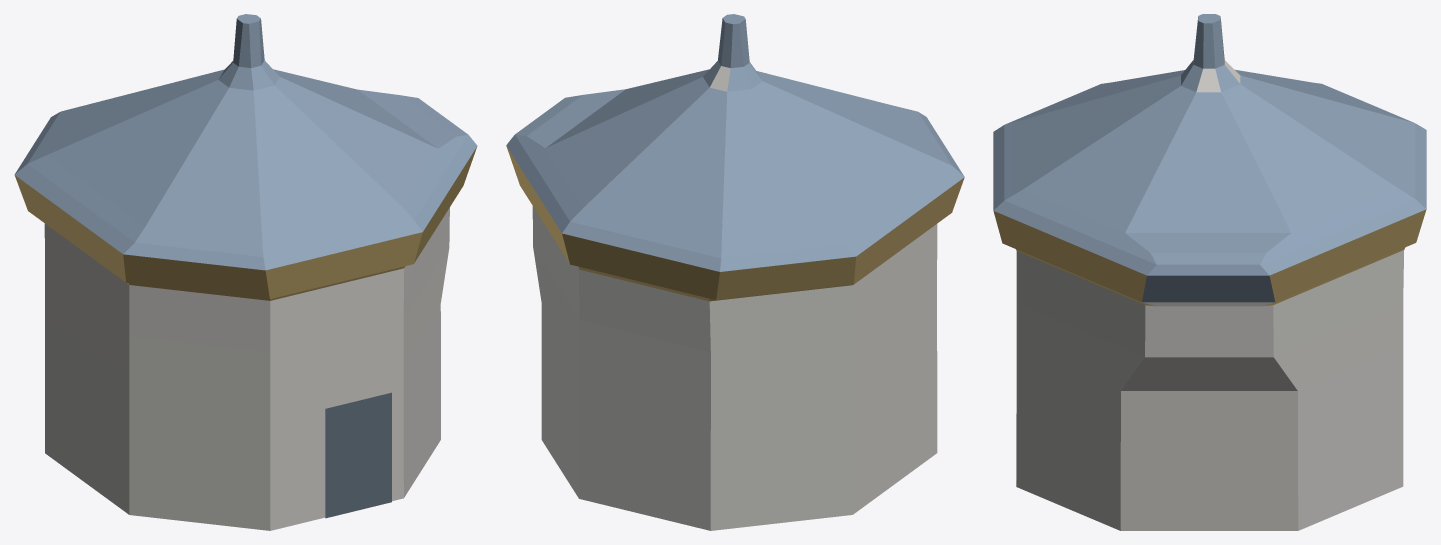
The model's file is loin.glb.
3 renders of one model, left to right at view 1: azimuth 30°, elevation 25°; view 2: azimuth 150°, elevation 25°; view 3: azimuth 270°, elevation 25°, orthographic. The views are drawn at different scales.
Parts seen in each view (by area): view 1: loin; view 2: loin; view 3: loin.
Boxes of the visible parts, x1=… form: loin: x1=14, y1=14, x2=477, y2=530; loin: x1=506, y1=14, x2=964, y2=530; loin: x1=993, y1=14, x2=1426, y2=530.
Size of the model in its own units: 0.8581 by 0.9267 by 0.831.
